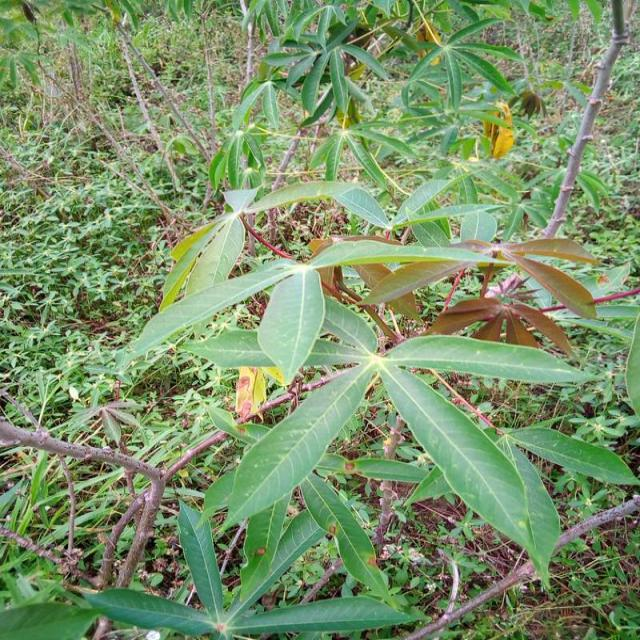cassava leaf: (377, 358, 561, 591), (220, 358, 376, 532), (256, 265, 325, 386)
